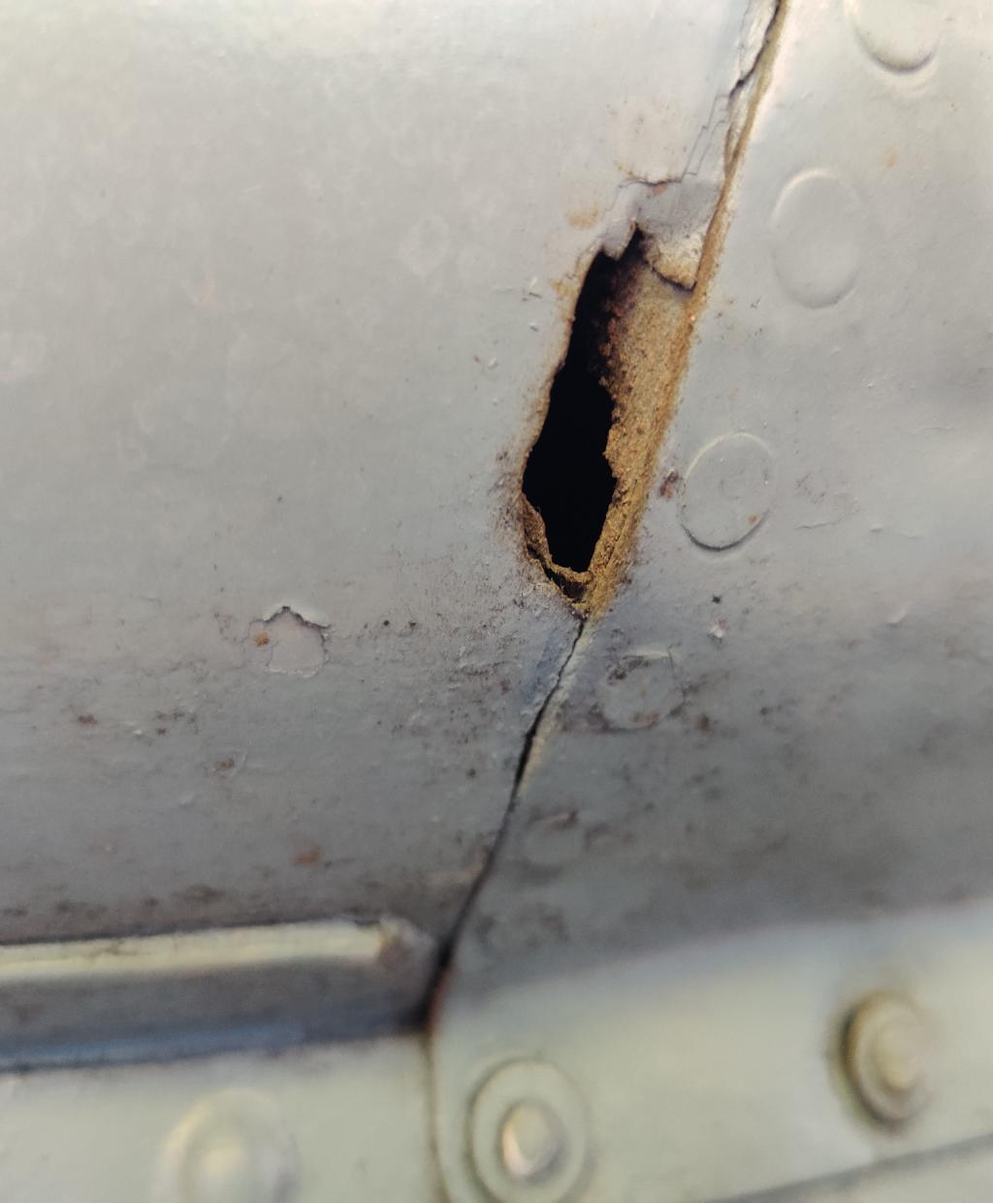crack: (465, 168, 751, 653)
